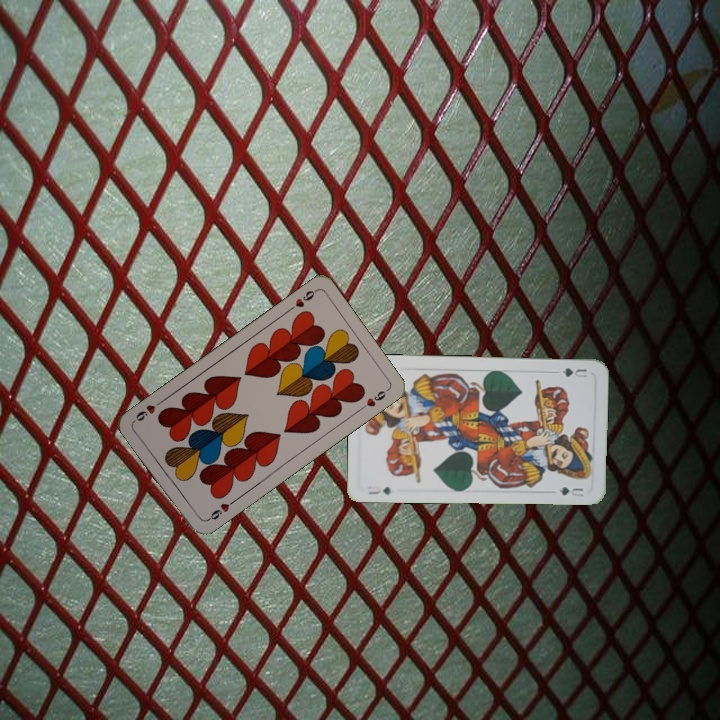GU: (552, 364, 590, 380), (364, 483, 394, 497)
H9: (202, 496, 238, 524), (284, 286, 319, 314)
